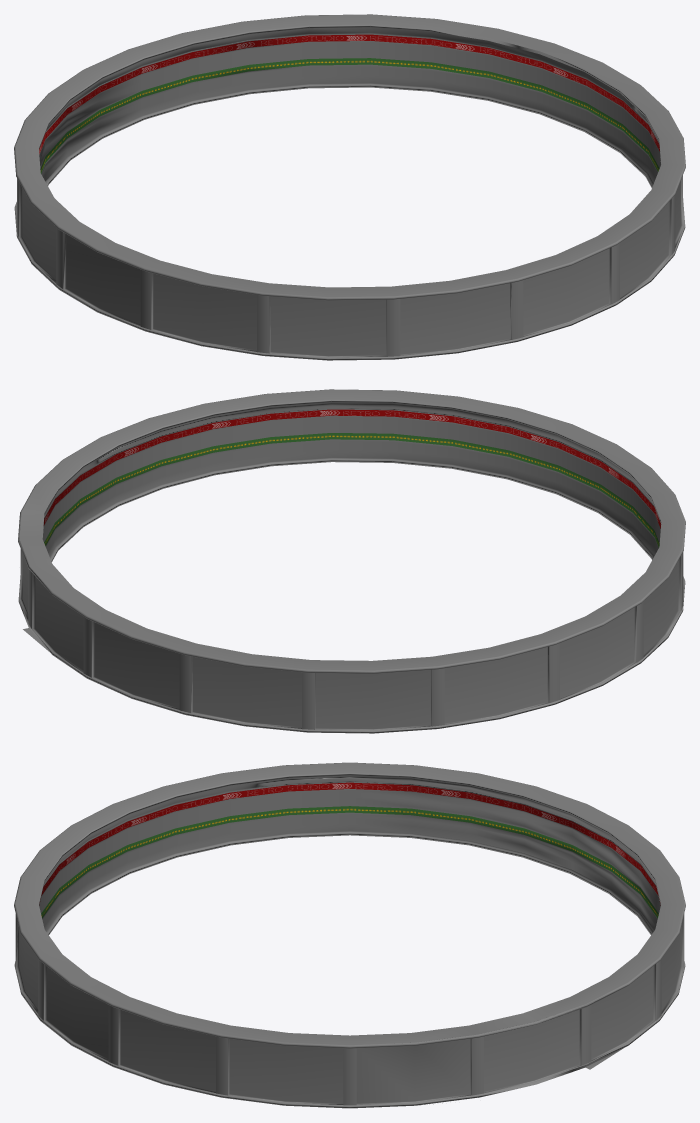
The model's file is SM_Dome_Metal_Ring.FBX.
The picture shows the model from 3 angles, top to bottom: view 1: azimuth 30°, elevation 25°; view 2: azimuth 150°, elevation 25°; view 3: azimuth 270°, elevation 25°; orthographic projection.
Visible parts, largest first — view 1: SM_Dome_Metal_Ring_LOD0; view 2: SM_Dome_Metal_Ring_LOD0; view 3: SM_Dome_Metal_Ring_LOD0.
Boxes of the visible parts, x1,y1,x2,y2 form: SM_Dome_Metal_Ring_LOD0: [14, 14, 685, 360]; SM_Dome_Metal_Ring_LOD0: [18, 389, 685, 733]; SM_Dome_Metal_Ring_LOD0: [14, 762, 685, 1108].
Size of what is drawn, in the model's own units: 3044 by 315 by 3044.
